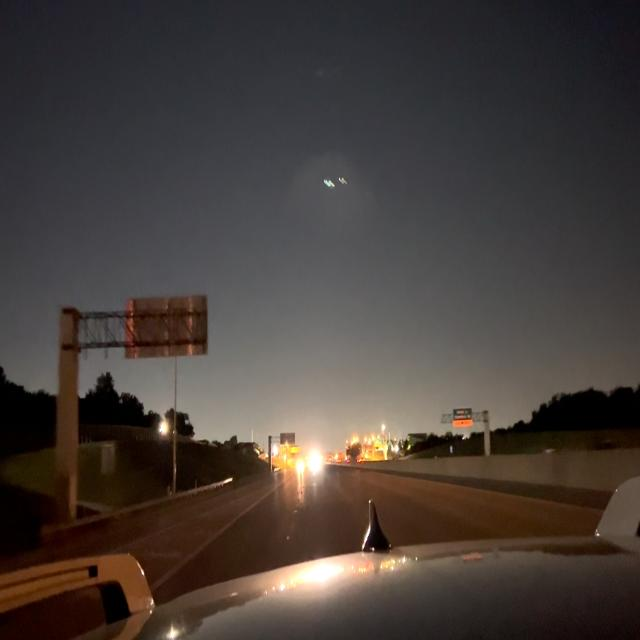back-of-sign: (125, 299, 207, 355)
